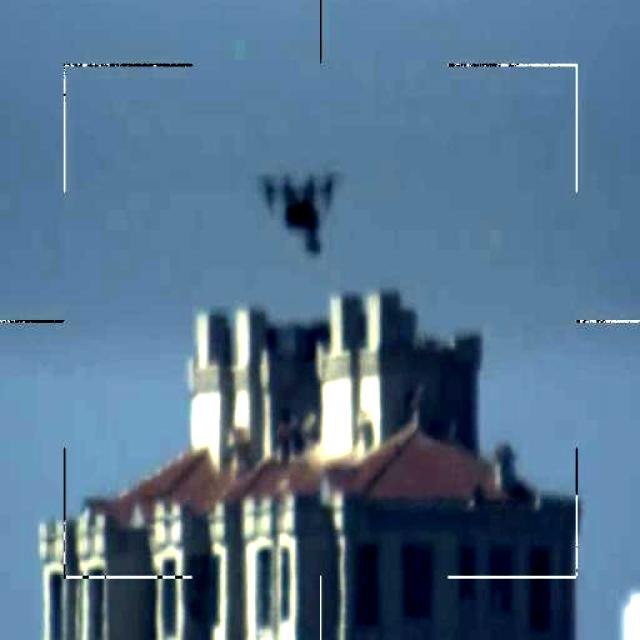bird: (259, 161, 351, 256)
